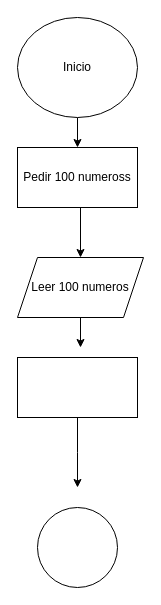
Some shapes in this 161 by 605 pixel diagram are drawn without their labels. The shapes that lost their labels are listed below. From the top down, each one's centre as x and y in pixels, then its label:
(x=77, y=387): Sumar todos los números
(x=77, y=547): Fin
